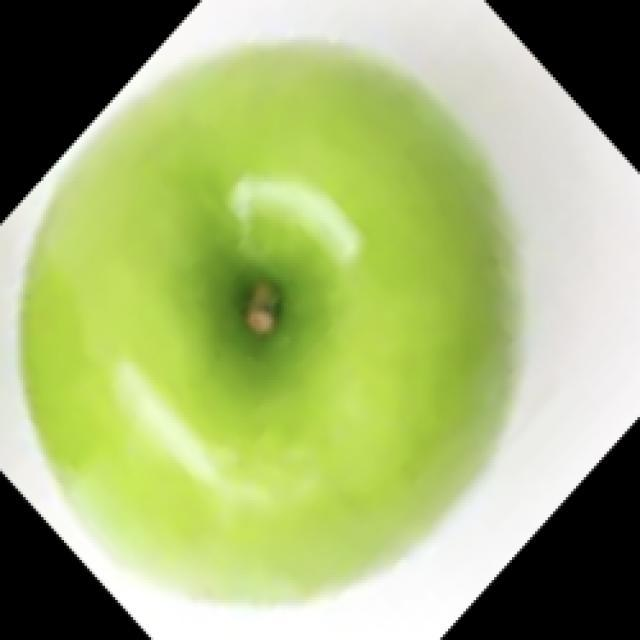Fresh Apple: (12, 27, 522, 610)
